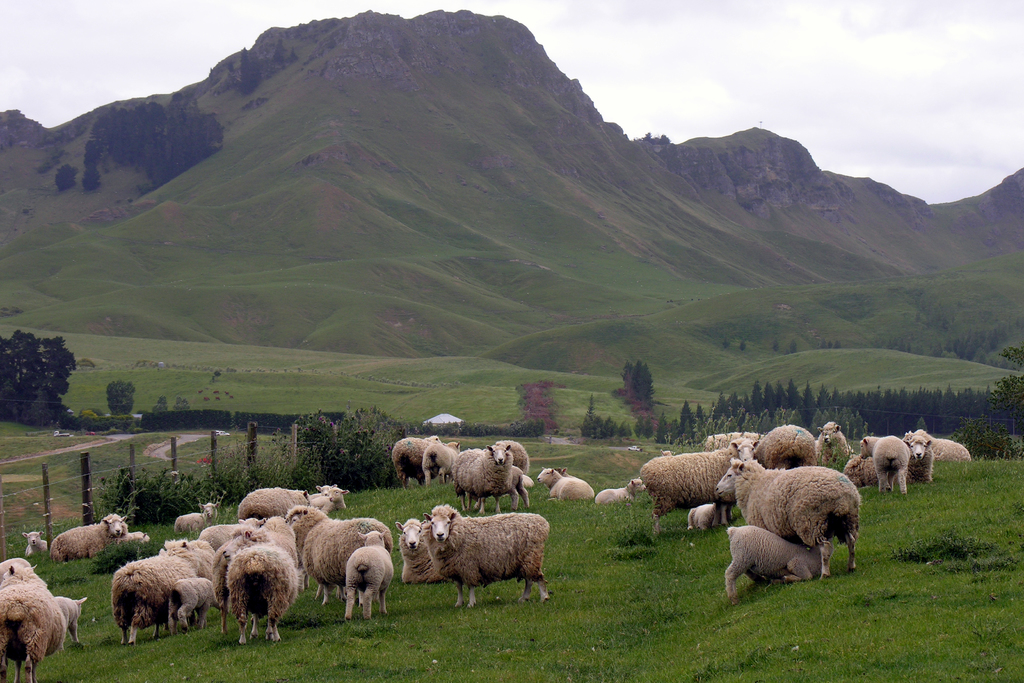sheep: (424, 504, 547, 609)
